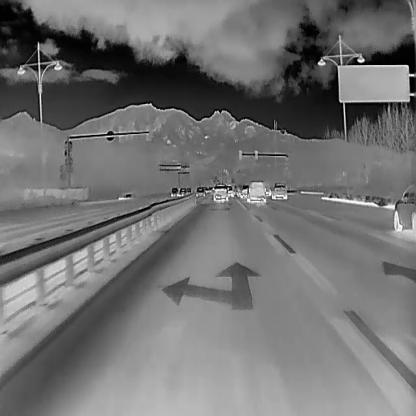car: (392, 180, 415, 232), (247, 179, 266, 203), (270, 182, 286, 201), (210, 184, 228, 200), (225, 184, 234, 198), (240, 184, 249, 198), (195, 187, 205, 197), (170, 185, 178, 196), (178, 188, 186, 196), (186, 186, 191, 194)
